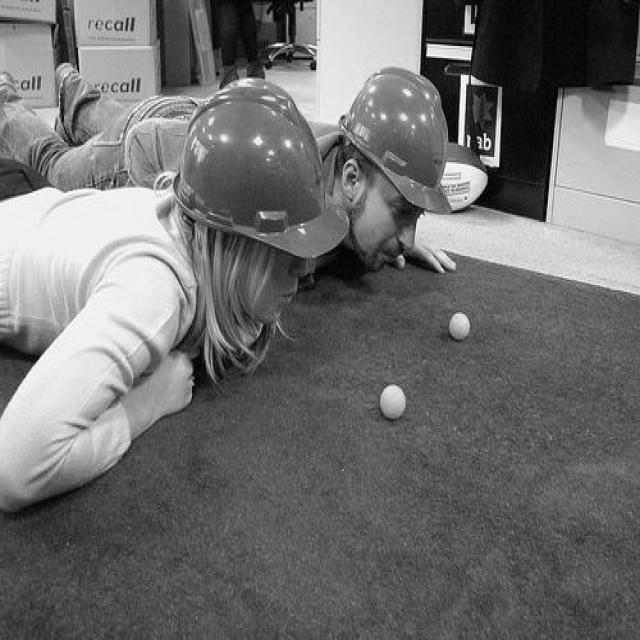ping-pong-ball: (380, 384, 407, 421), (448, 312, 470, 341)
